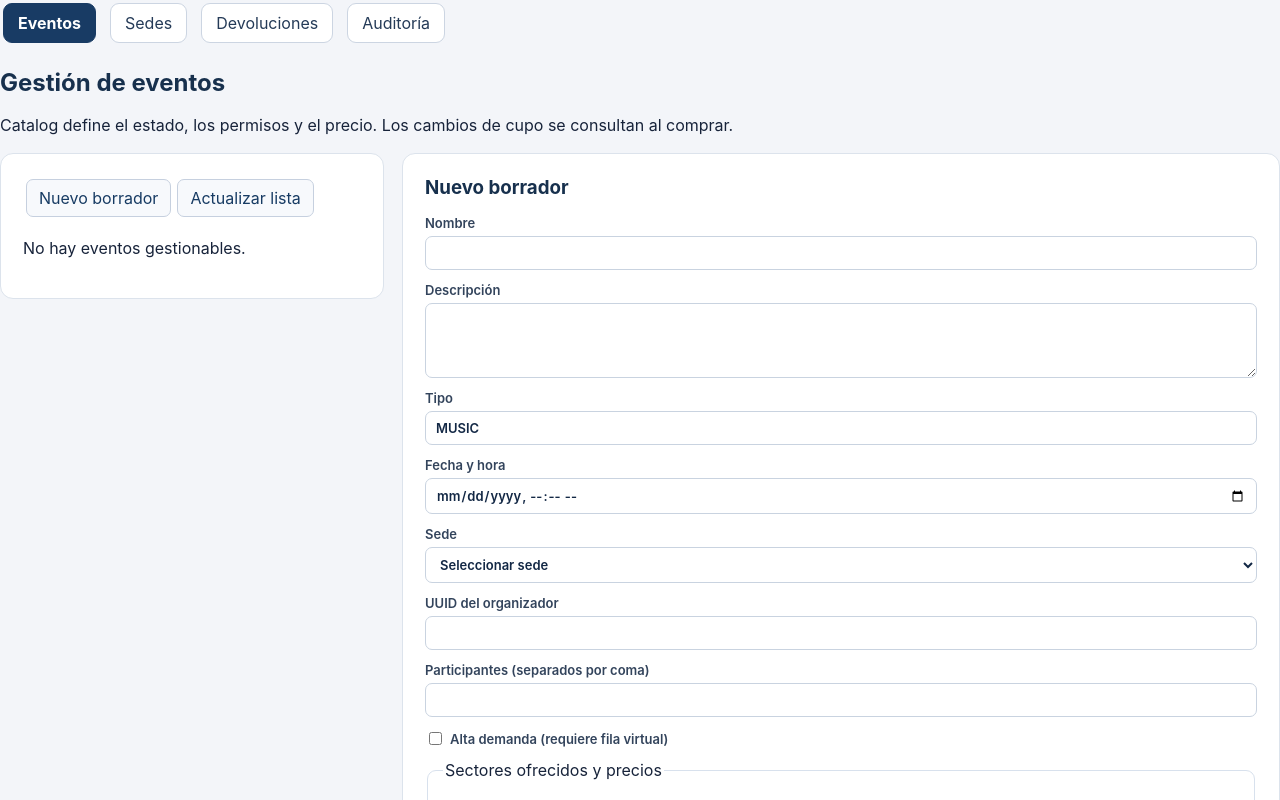
Scenario: operaciones por Gateway › envía filtros admitidos y abre la traza sin exponer detalles sensibles
Click the button "Auditoría" at (396, 23), box [347,3,445,43]
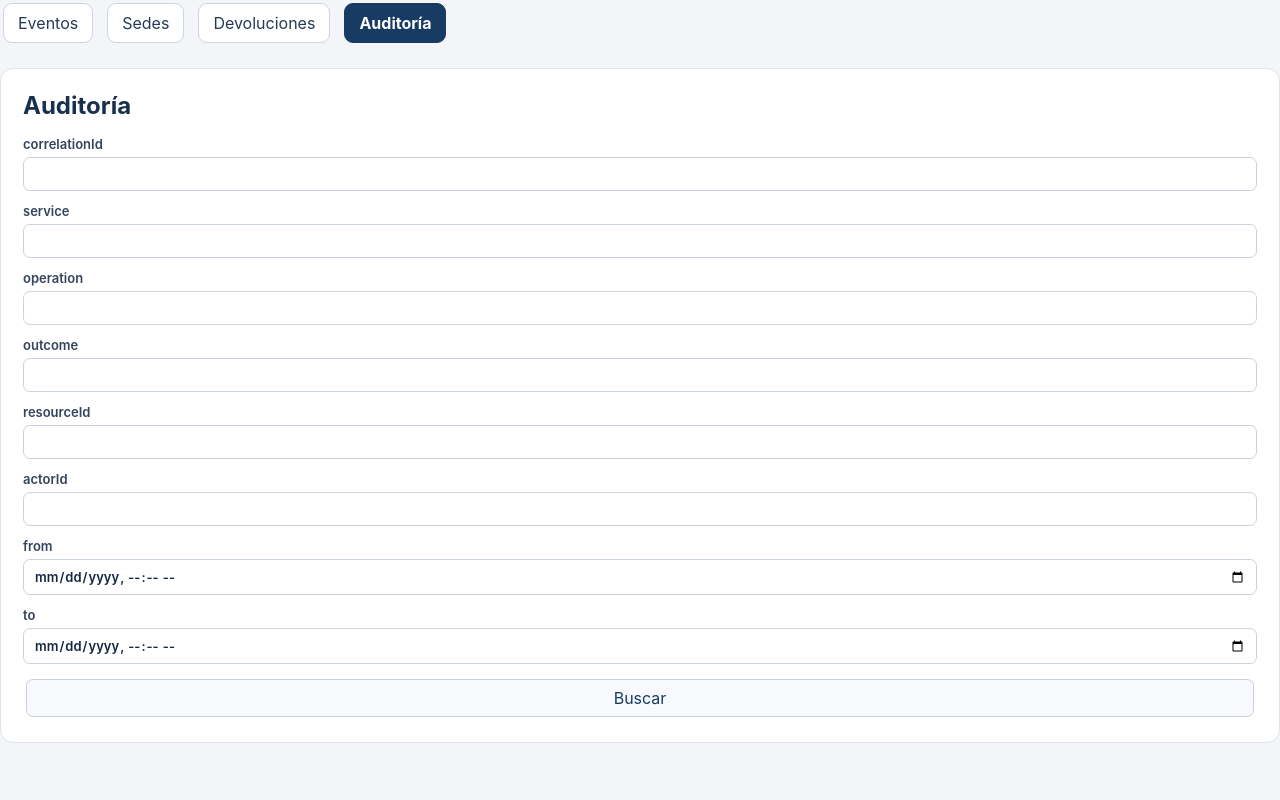
Type "purchase-service" into the field labelled "service" at (640, 241), box [23,224,1257,258]
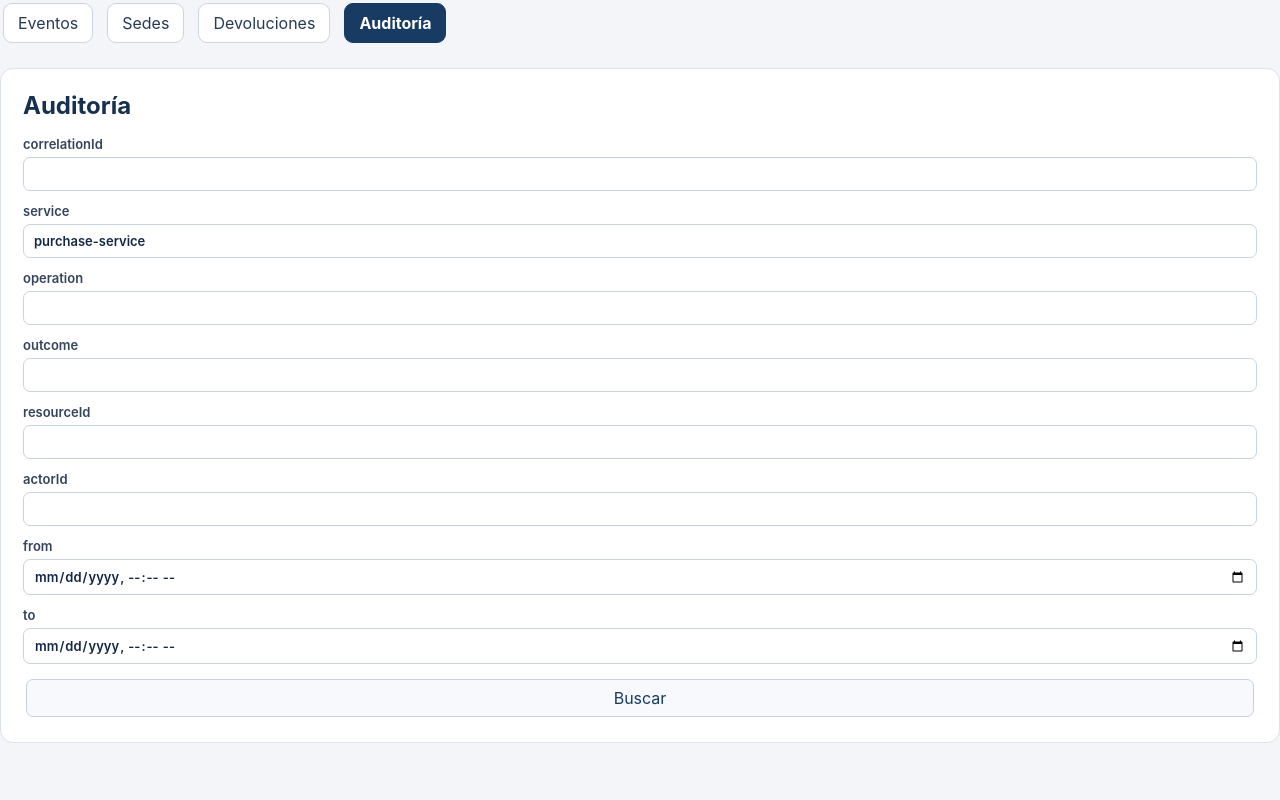
Click the button "Buscar" at (640, 698), box [26,679,1254,717]
(page scrolled)
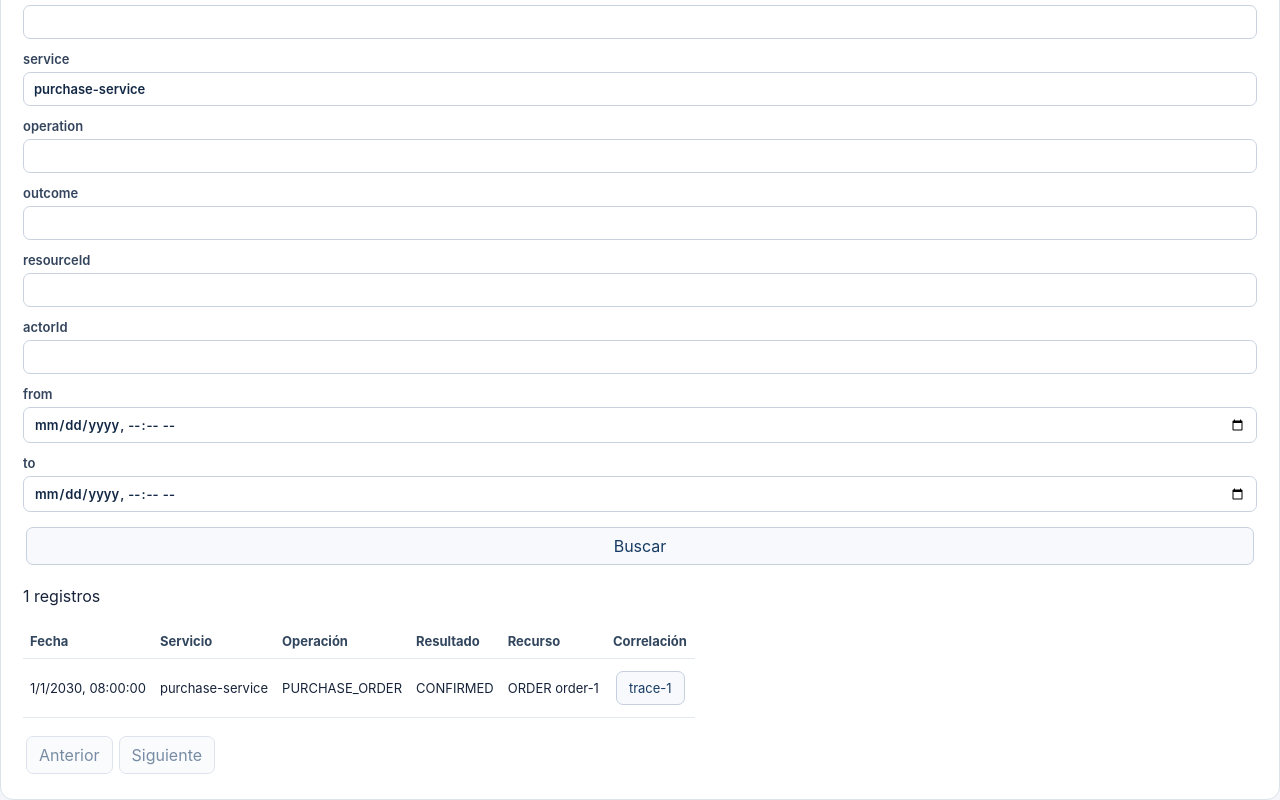
Click the button "trace-1" at (650, 688), box [616,671,685,705]
(page scrolled)
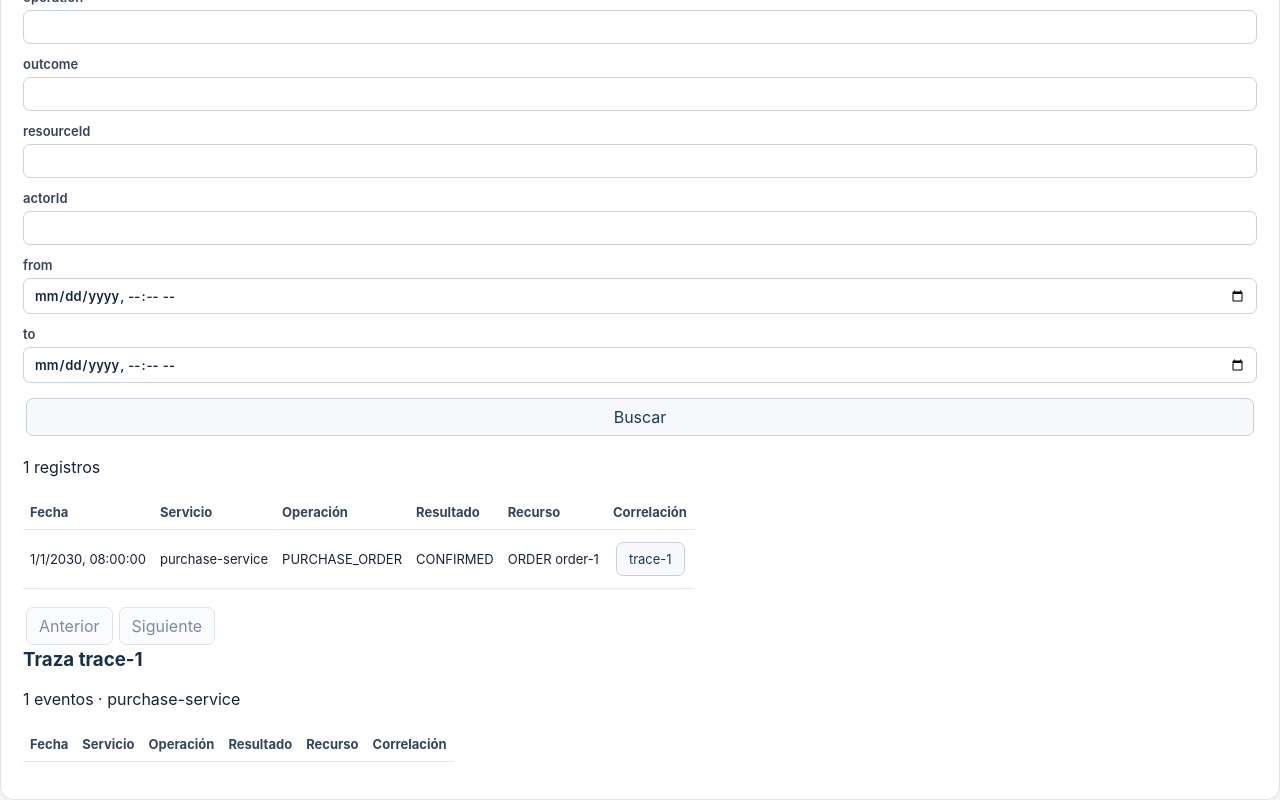
Now the text "1 eventos · purchase-service" is shown, box [23,689,240,709]
